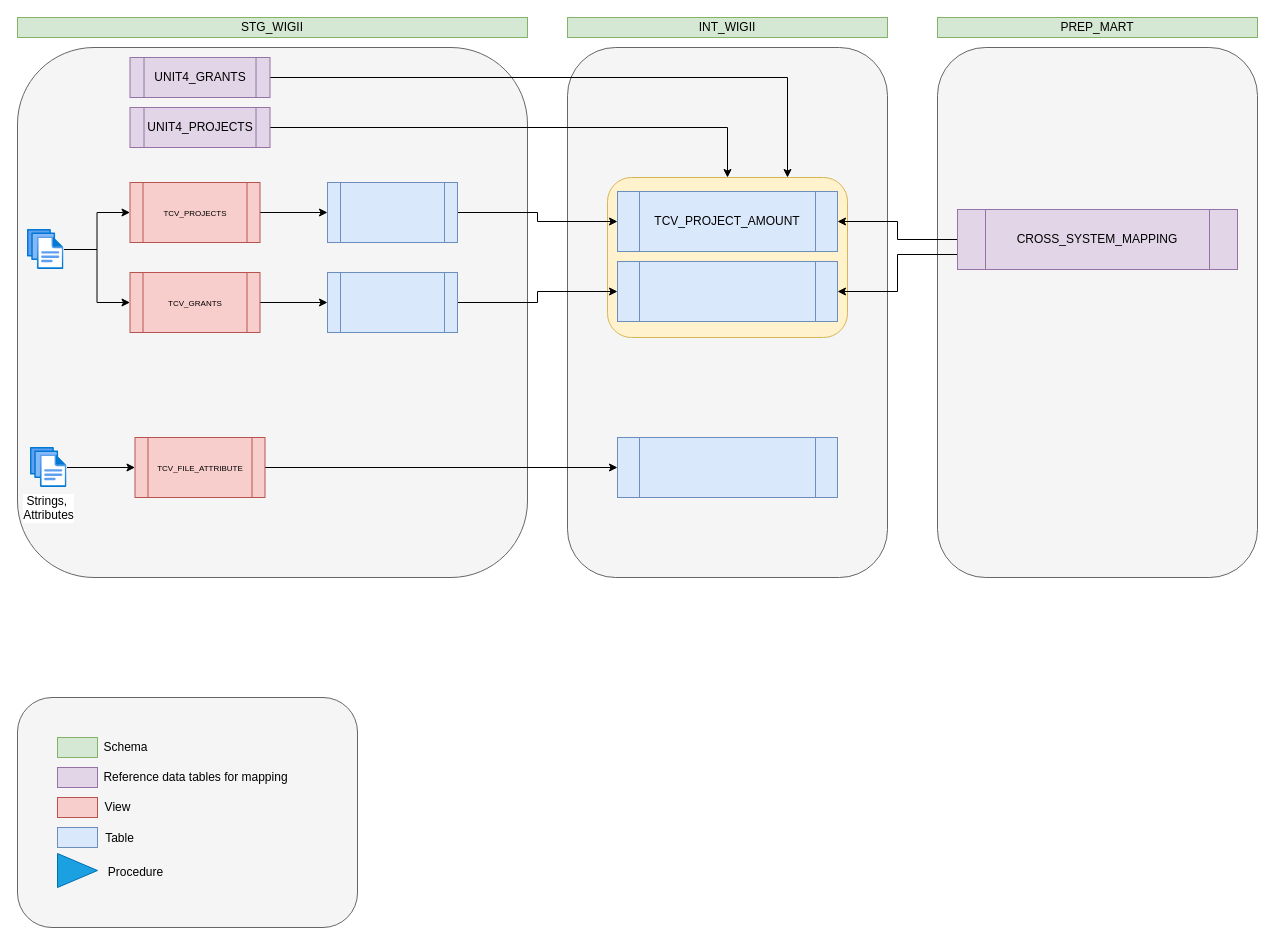
This 1275x945 diagram has some shape labels left out. Here are the shapes that lost their labels. From the top down, the centre of each, then its label:
At [392,212]: "TCV_MAPPED_PROJECTS".
At [45,249]: "TCV files".
At [392,302]: "TCV_MAPPED_GRANTS".
At [727,291]: "TCV_GRANT_AMOUNT".
At [727,467]: "TCV_FILE".
